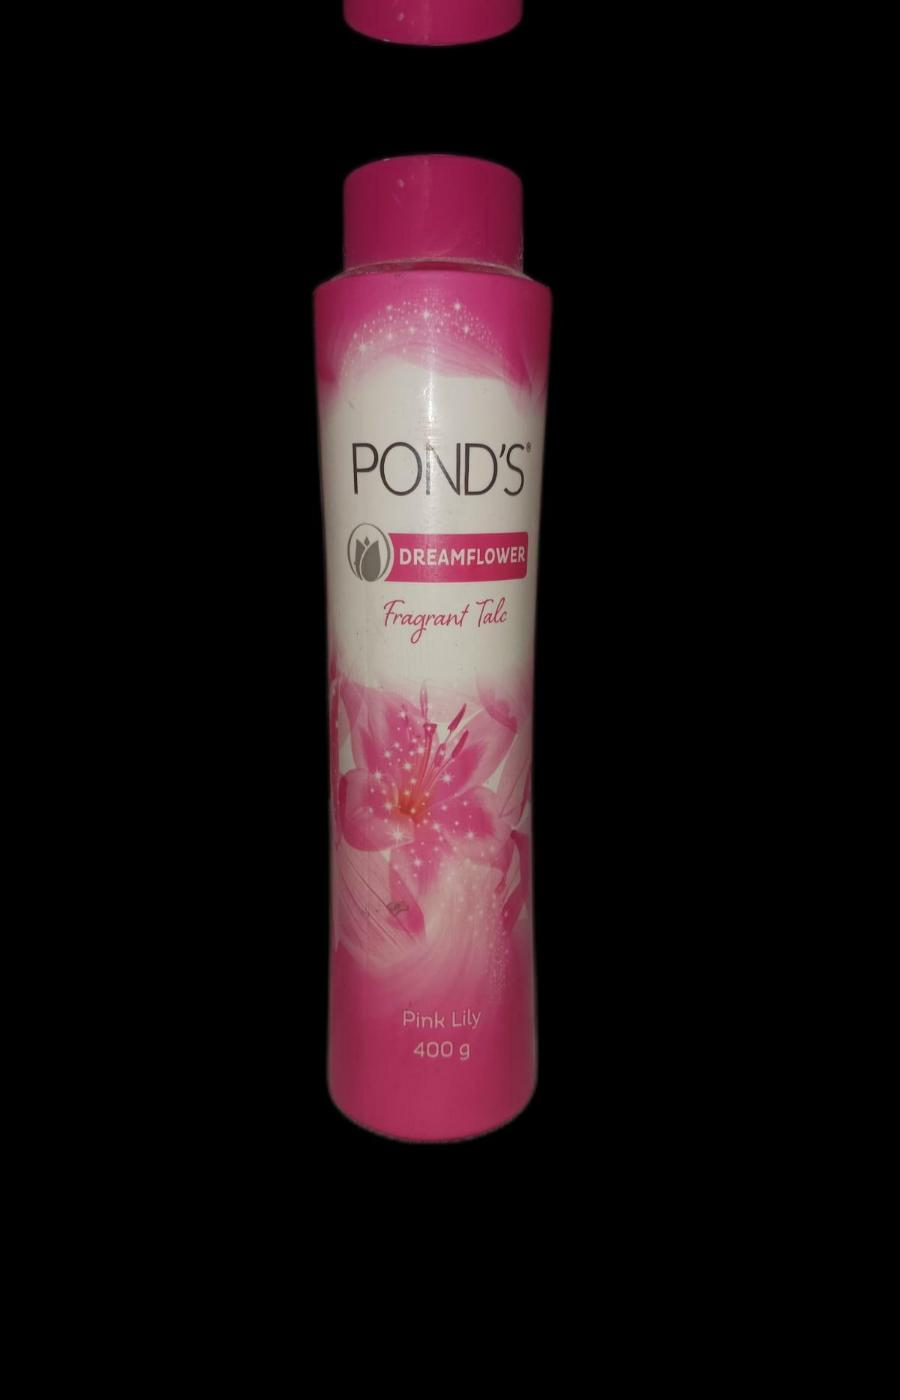Pond-s Dreamflower Pink Lily Fragrant Talc 400 g: (296, 143, 570, 1142)
